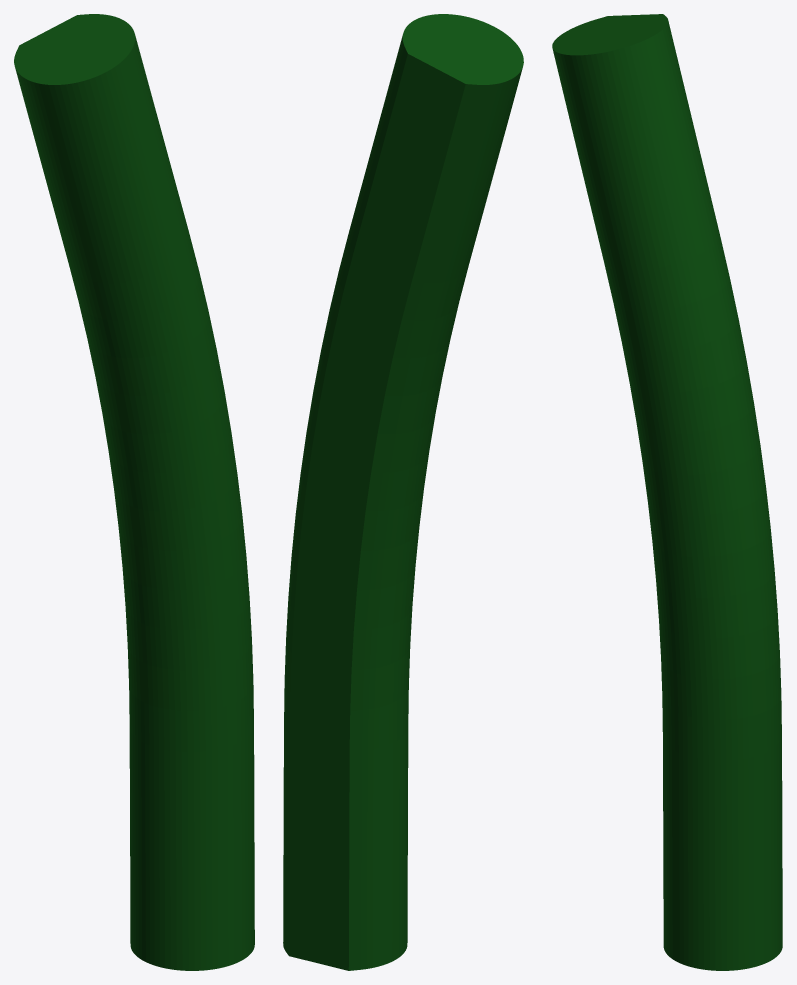
Rendered from stem_1B_15L.glb.
3 views of the same model, side by side, from view 1: azimuth 30°, elevation 25°; view 2: azimuth 150°, elevation 25°; view 3: azimuth 330°, elevation 25° (orthographic). The views are drawn at different scales.
Parts seen in each view (by area): view 1: stem_1B_15L; view 2: stem_1B_15L; view 3: stem_1B_15L.
Boxes of the visible parts, <box> form: stem_1B_15L: <box>14,14,254,970</box>; stem_1B_15L: <box>283,14,523,970</box>; stem_1B_15L: <box>552,14,782,970</box>.
Size of the model in its own units: 0.015 by 0.0599 by 0.00666.
